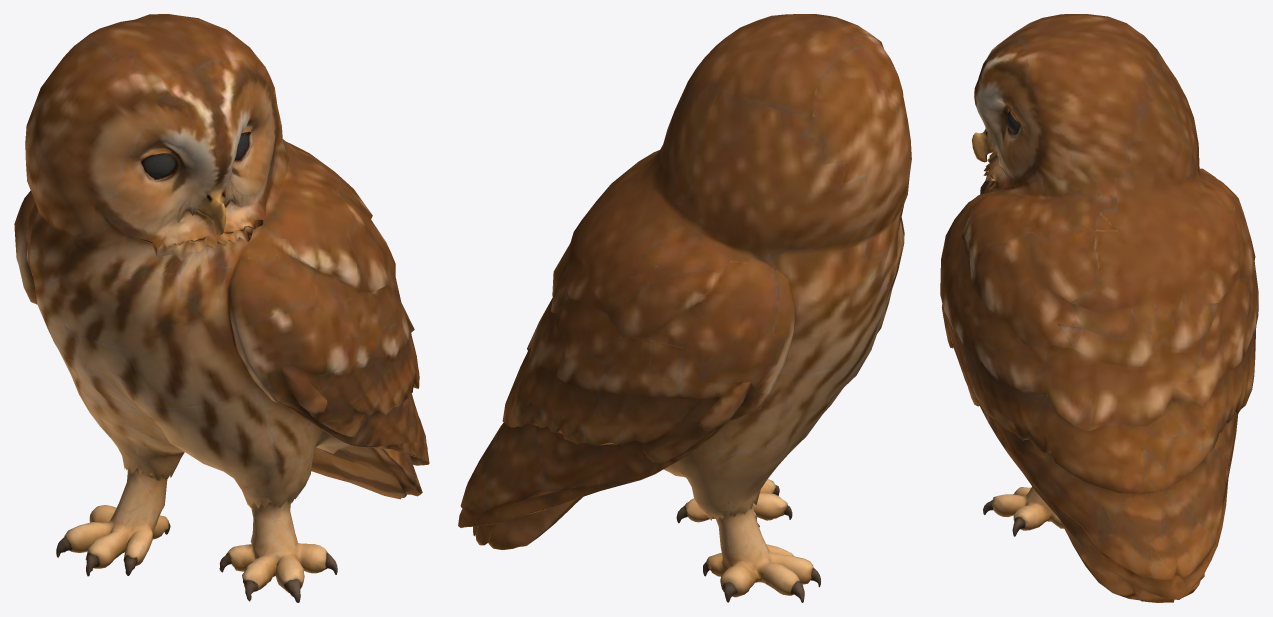
The model's file is owl-tawny.glb.
The picture shows the model from 3 angles, left to right: view 1: azimuth 30°, elevation 25°; view 2: azimuth 150°, elevation 25°; view 3: azimuth 270°, elevation 25°; orthographic projection. The views are drawn at different scales.
Parts seen in each view (by area): view 1: geometry_0; view 2: geometry_0; view 3: geometry_0.
Part boxes in pixels (x1,y1,x2,y2): geometry_0: (14, 14, 429, 602); geometry_0: (458, 14, 911, 602); geometry_0: (940, 14, 1258, 602).
Bounding box in the file's own units: 0.7335 × 0.9512 × 0.5962.
Materials: 1 (1 with a texture image).
